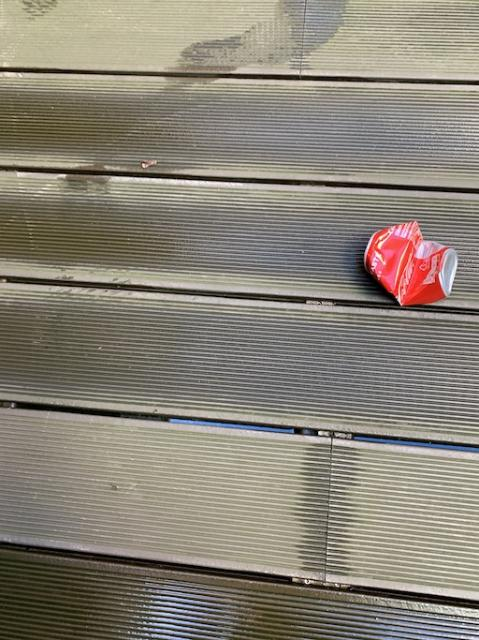metal: (365, 221, 457, 305)
